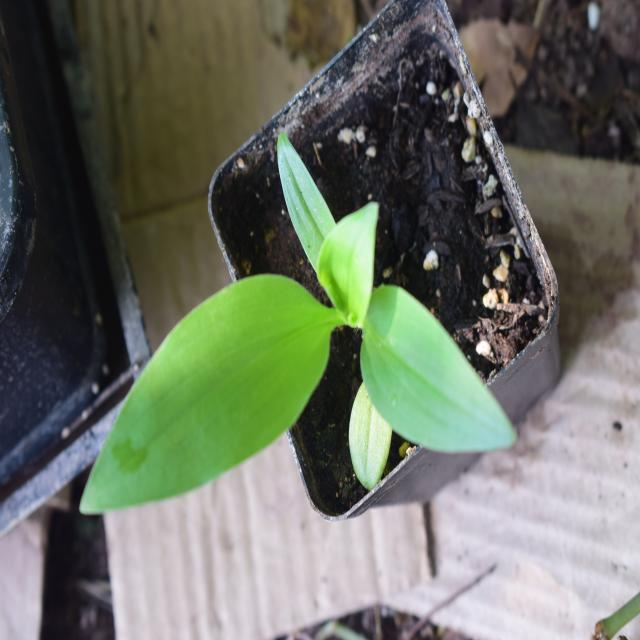Common Dayflower: (70, 174, 494, 526)
